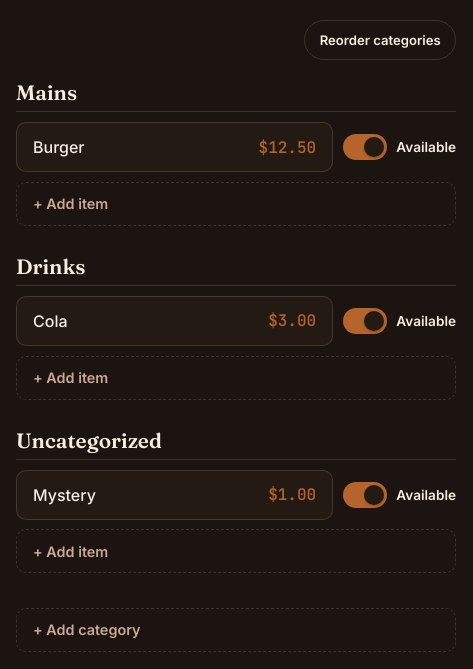
Test: MenuManager › enters reorder mode when Reorder categories is clicked, showing reorder bars
Click the button "Reorder categories".
click(380, 40)  # box 304,20 -> 456,60
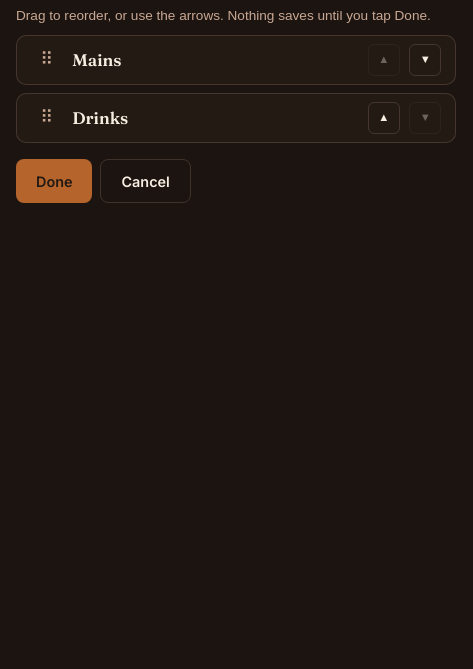
expect the number of list items with test id "reorder-bar" is 2: met, box 16,35 -> 456,85; 16,93 -> 456,143
expect the button "Add category" is gone: met
